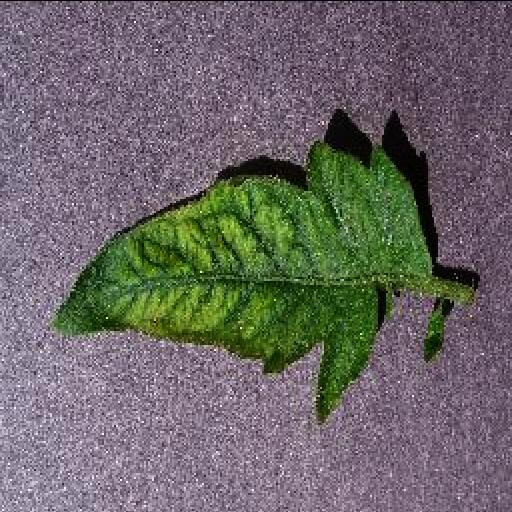disease_tomato: (50, 136, 434, 424)
